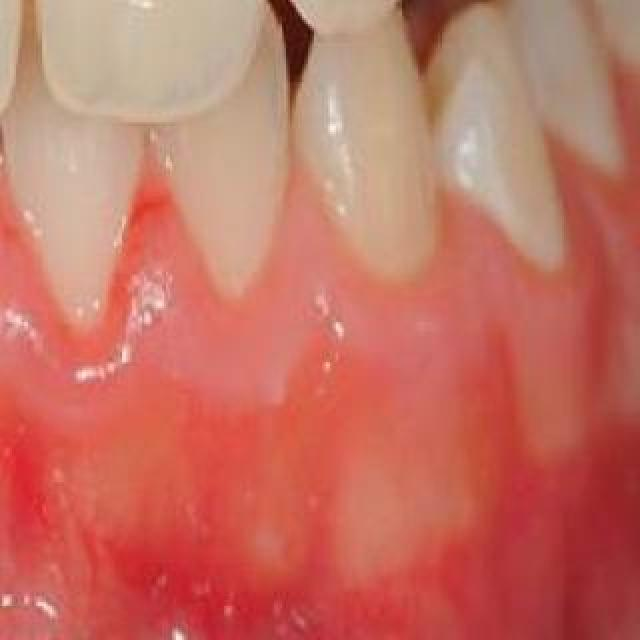plaque: (288, 81, 452, 297), (0, 132, 156, 356), (168, 109, 308, 311)
spacing: (0, 0, 74, 114)
